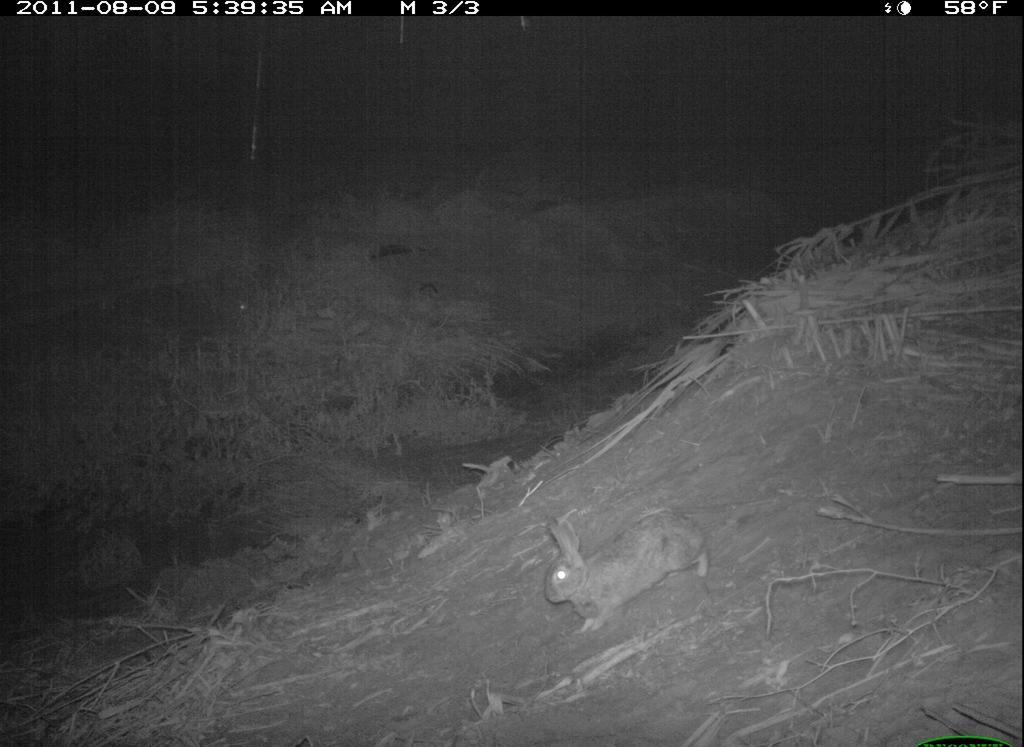rabbit: (541, 507, 717, 640)
